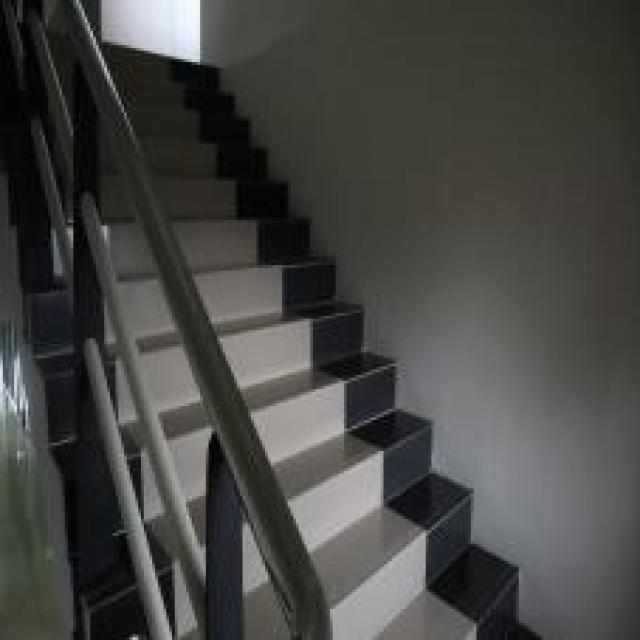upstair: (170, 150, 410, 410)
